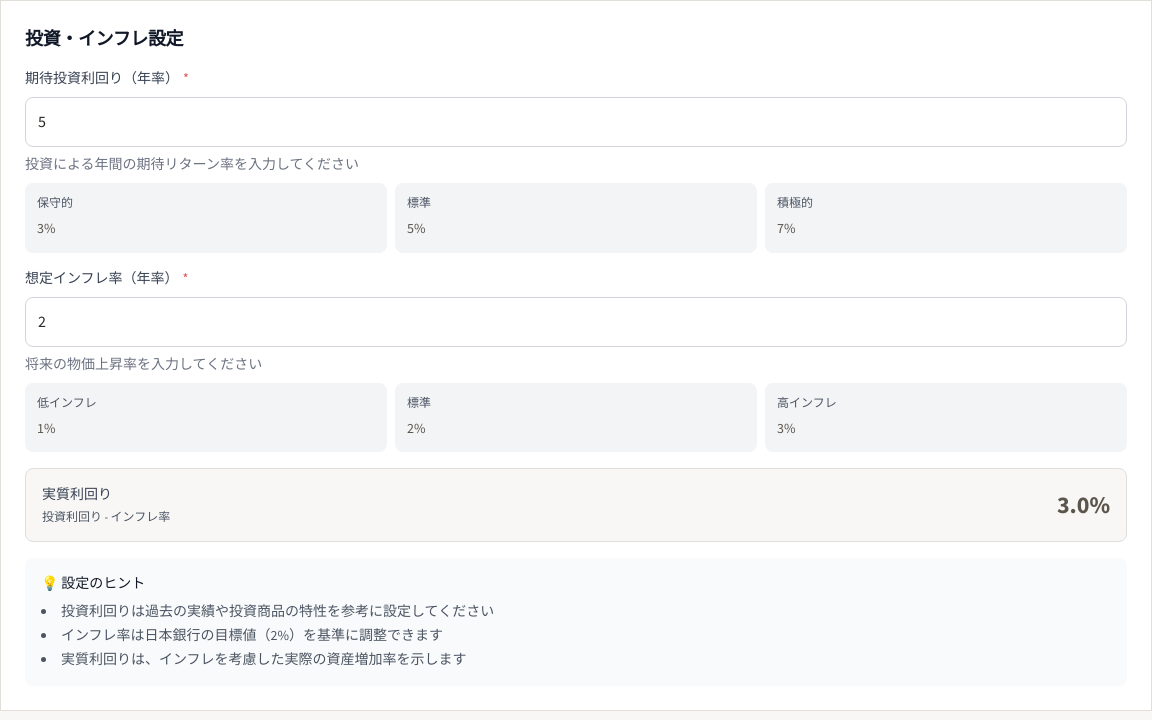
it: InvestmentSettingsForm › 実質利回り計算 › 高インフレプリセット（3%）クリックで実質利回りが変わる
// 2番目が高インフレプリセット（インフレ率3%）
Click the button "3%" below "高インフレ" at (786, 429), box [777,419,796,439]
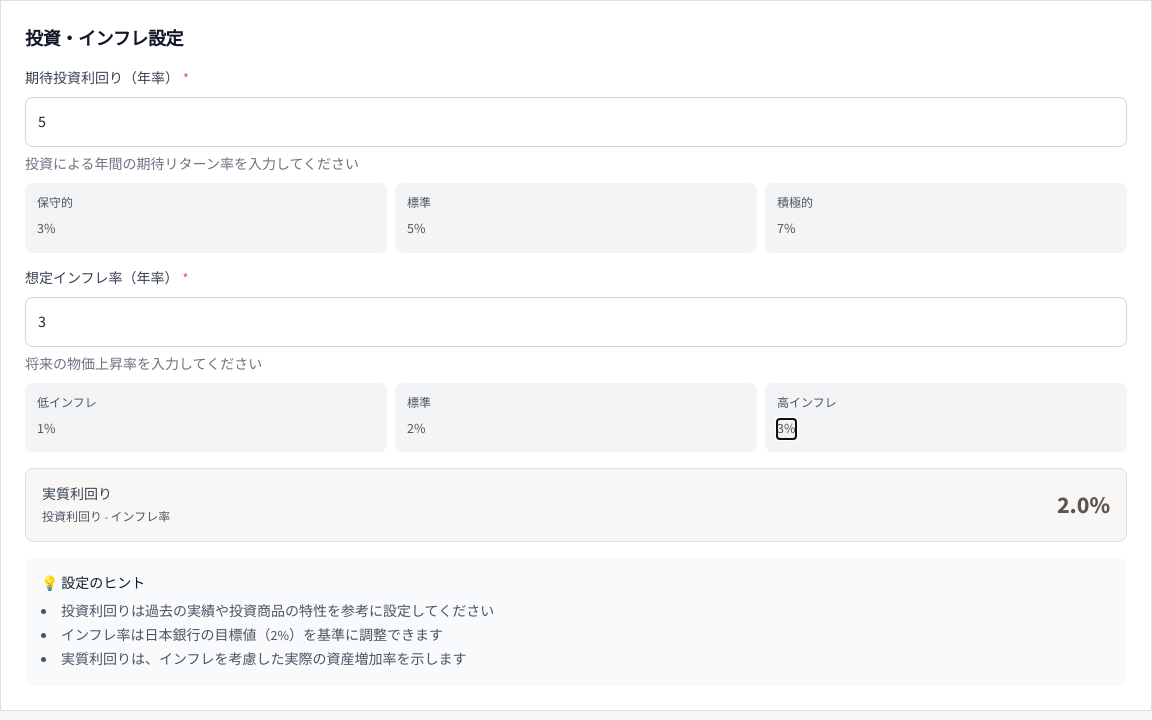
Expected: the text "2.0%" is shown, [1057,489,1110,521]
